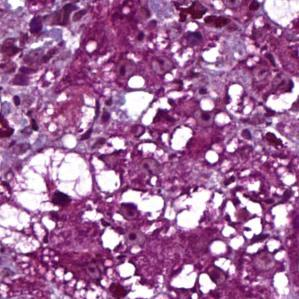ballooning: (9, 146, 96, 214), (0, 203, 49, 256)
